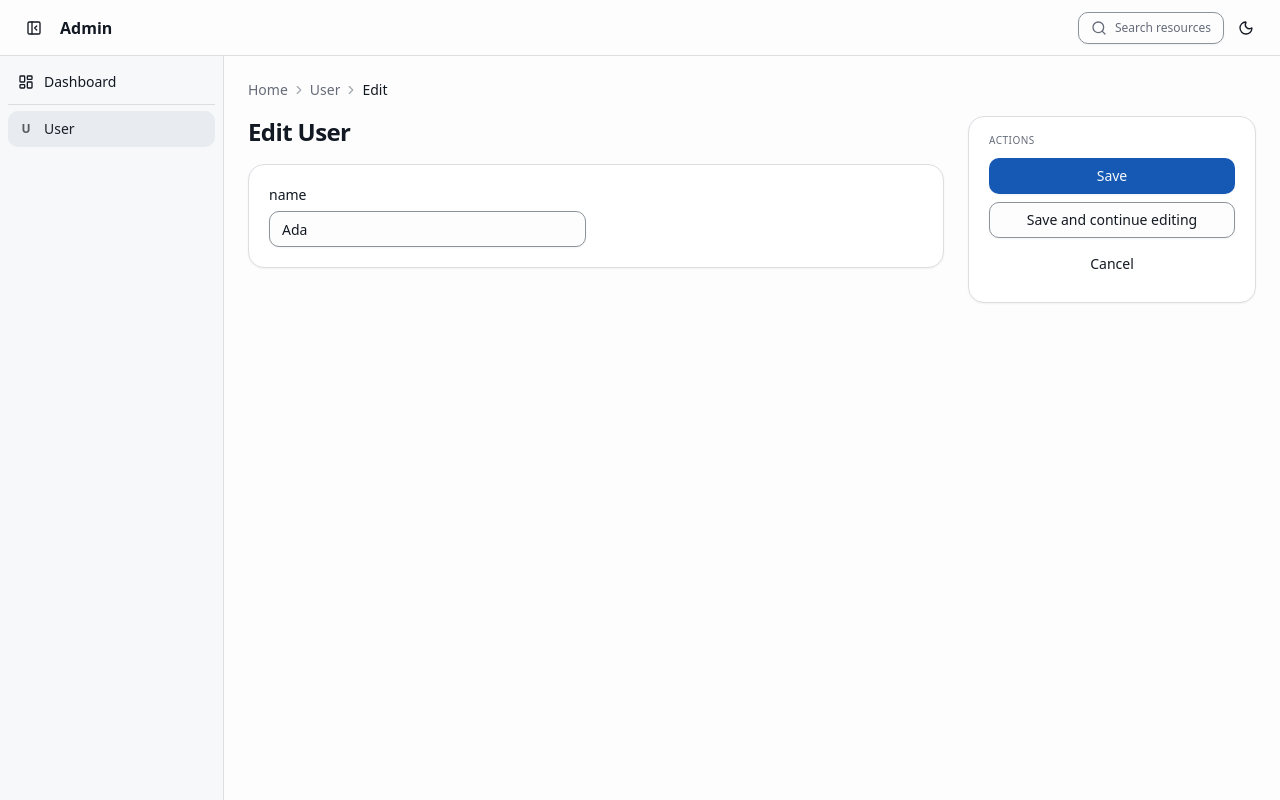
when the record moved underneath › says so, and says that nothing was lost
The image size is (1280, 800).
Replace the text in the field labelled "name" with "Ada L.": (428, 229) x1=269 y1=211 x2=586 y2=247
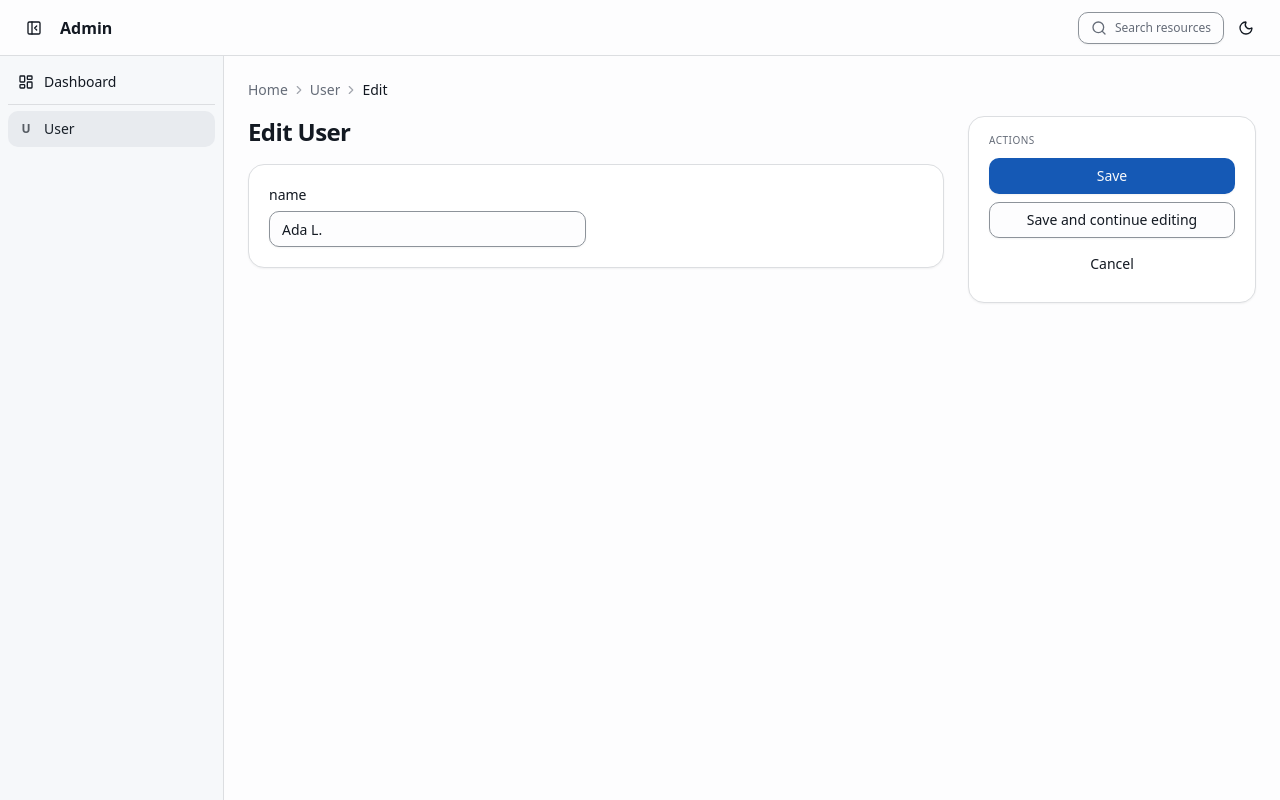
Click the button "Save": click(1112, 176) x1=989 y1=158 x2=1235 y2=194
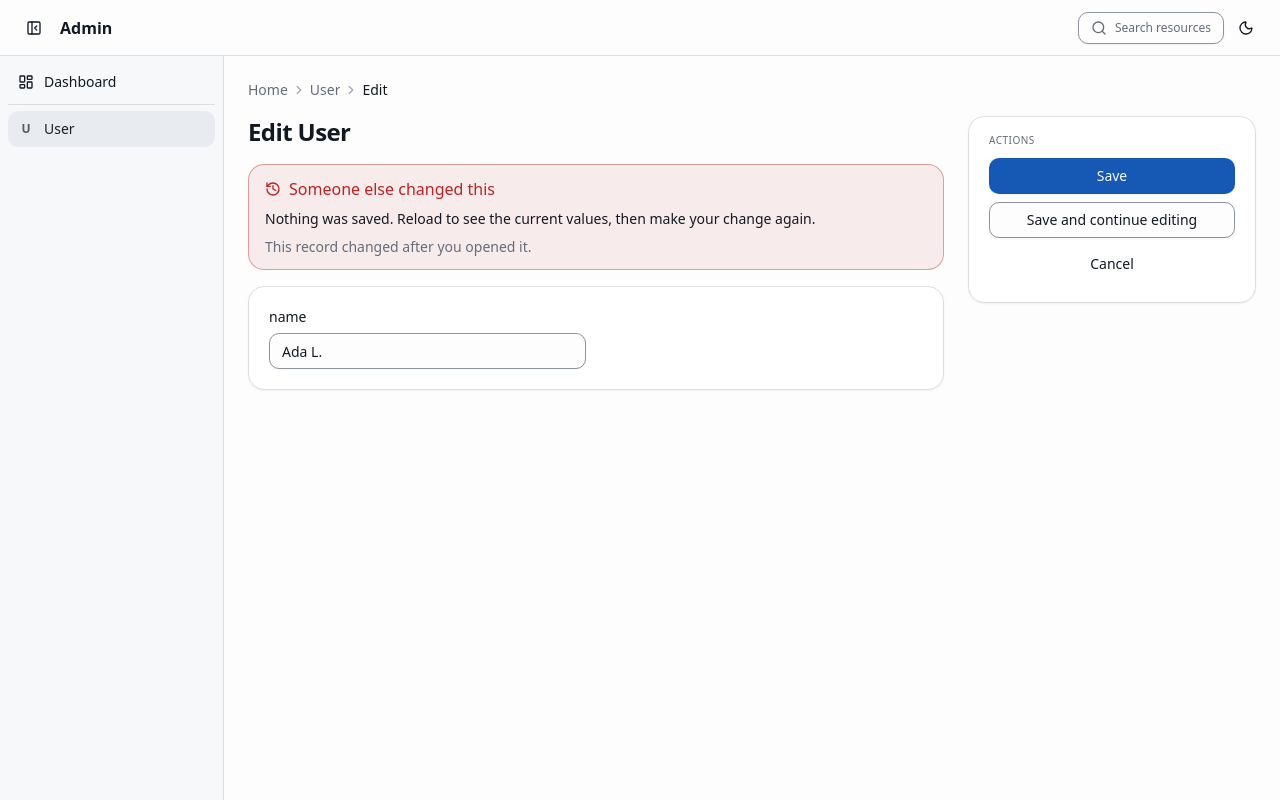
Check: the text "Someone else changed this" is shown, box x1=265 y1=178 x2=495 y2=200
Check: the text "Nothing was saved" is shown, box x1=265 y1=209 x2=816 y2=228
